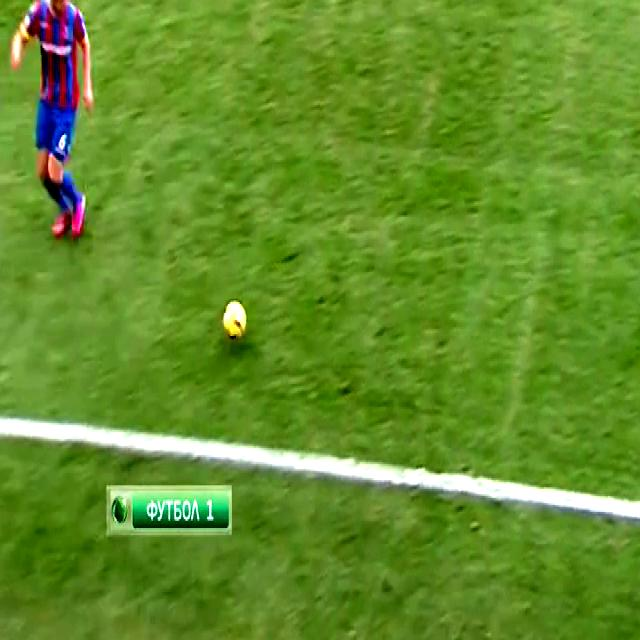ball: (214, 296, 254, 352)
soccer-player: (0, 0, 112, 244)
